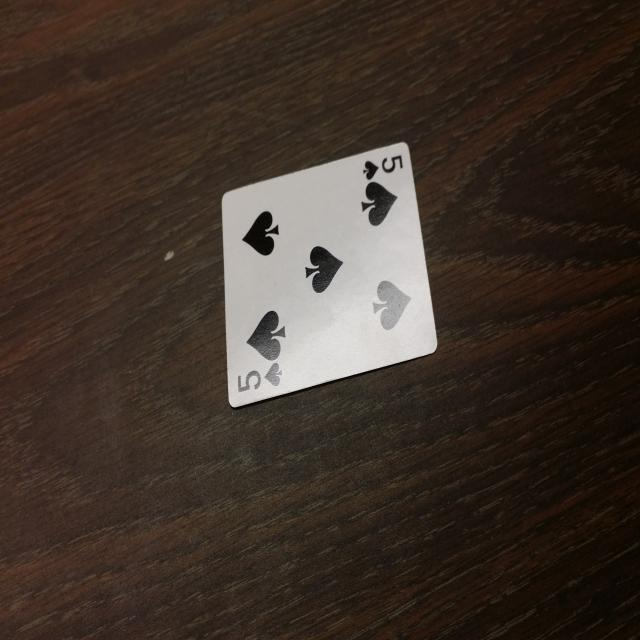5s: (233, 357, 285, 401), (358, 145, 408, 182)
